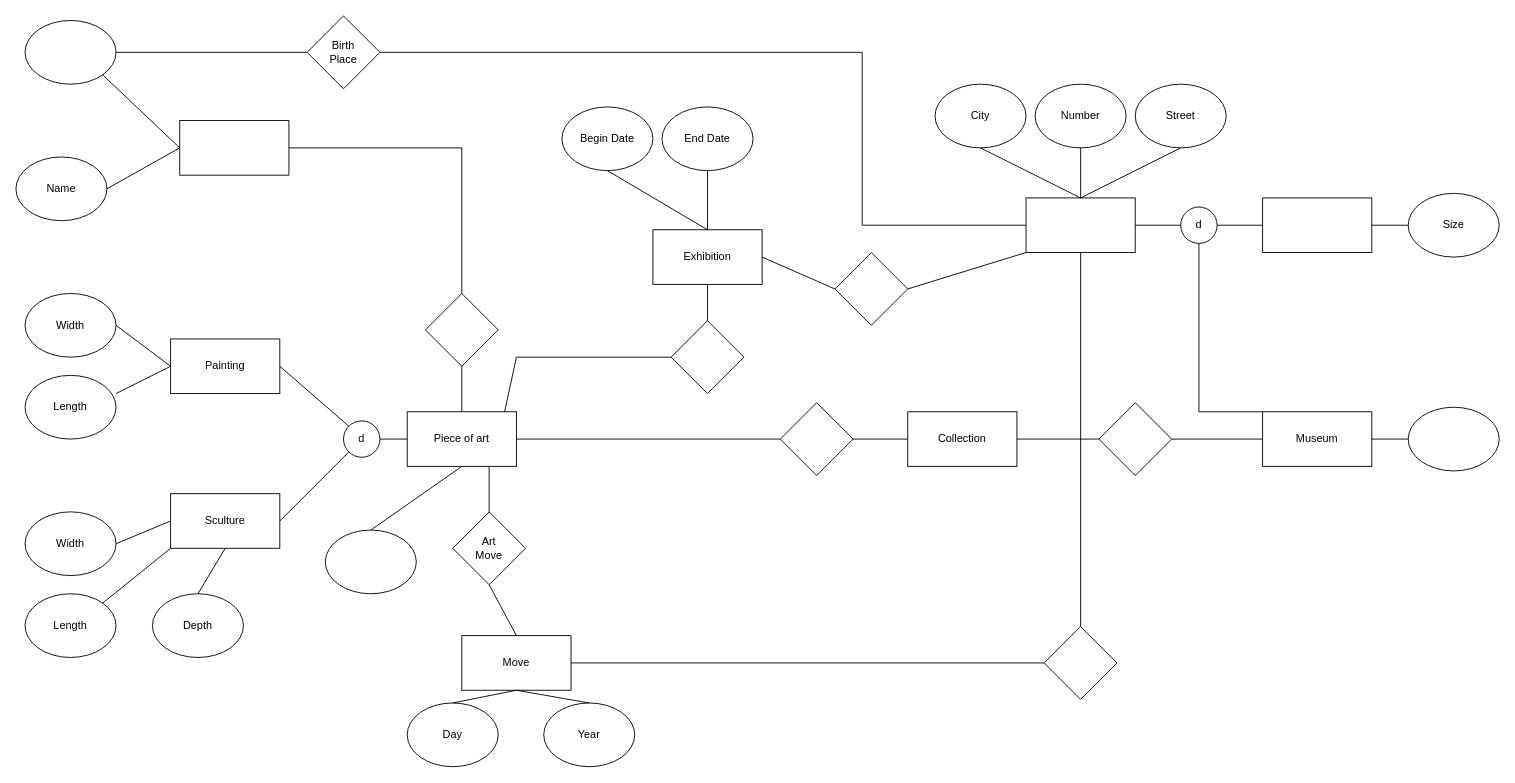
This 1515x783 diagram has some shape labels left out. The centre of each missing label's shape, as x and y in pixels:
"Art in the collection" goes at point (816, 438).
"Artist" goes at point (234, 147).
"Birth Date" goes at point (70, 52).
"Created by" goes at point (461, 329).
"Creation date" goes at point (370, 561).
"Location" goes at point (1080, 225).
"Opening Hours" goes at point (1453, 438).
"Storage" goes at point (1317, 225).
"Target Location" goes at point (1080, 662).
"What is Exhibed ?" goes at point (707, 357).
"Where Exhibed ?" goes at point (871, 288).
"Which Museum ?" goes at point (1135, 438).
